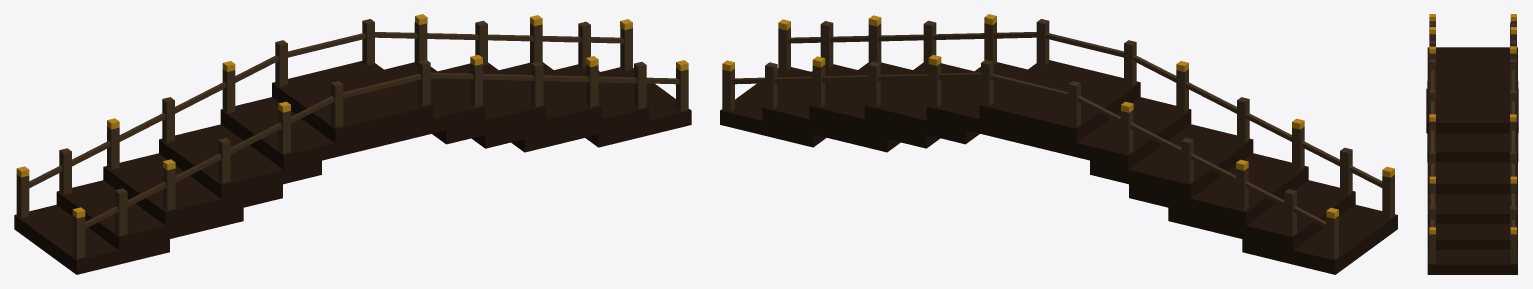
File: walkingbridge.fbx
3 renders of one model, left to right at view 1: azimuth 30°, elevation 25°; view 2: azimuth 150°, elevation 25°; view 3: azimuth 270°, elevation 25°, orthographic. The views are drawn at different scales.
Visible parts, largest first — view 1: Box053, Box055, Box056, Box057, Box054, Box058, Box061, Box062, Box063, Box060, Box064, Box079 (+28 smaller); view 2: Box053, Box055, Box056, Box054, Box057, Box058, Box061, Box062, Box063, Box060, Box064, Box078 (+29 smaller); view 3: Box053, Box061, Box060, Box062, Box064, Box063, Box055, Box056, Box054, Box057, Box058, Box114 (+18 smaller).
Boxes of the visible parts, left/top/right/bottom form: Box053: left=272, top=61, right=433, bottom=143; Box055: left=159, top=124, right=321, bottom=198; Box056: left=103, top=153, right=282, bottom=226; Box057: left=56, top=180, right=243, bottom=251; Box054: left=220, top=97, right=371, bottom=169; Box058: left=14, top=204, right=169, bottom=274; Box061: left=432, top=62, right=546, bottom=144; Box062: left=471, top=62, right=602, bottom=148; Box063: left=511, top=64, right=649, bottom=152; Box060: left=384, top=62, right=485, bottom=142; Box064: left=585, top=67, right=691, bottom=147; Box079: left=85, top=96, right=334, bottom=228; Box053: left=979, top=60, right=1140, bottom=143; Box055: left=1090, top=124, right=1253, bottom=198; Box056: left=1129, top=153, right=1308, bottom=226; Box054: left=1040, top=97, right=1191, bottom=169; Box057: left=1168, top=180, right=1355, bottom=249; Box058: left=1242, top=204, right=1397, bottom=274; Box061: left=864, top=62, right=979, bottom=144; Box062: left=809, top=62, right=939, bottom=148; Box063: left=762, top=64, right=900, bottom=152; Box060: left=926, top=62, right=1027, bottom=141; Box064: left=720, top=67, right=826, bottom=147; Box078: left=1077, top=96, right=1326, bottom=228; Box053: left=1426, top=88, right=1518, bottom=133; Box061: left=1427, top=162, right=1517, bottom=194; Box060: left=1427, top=133, right=1518, bottom=162; Box062: left=1427, top=194, right=1517, bottom=223; Box064: left=1427, top=249, right=1517, bottom=274; Box063: left=1427, top=223, right=1517, bottom=249; Box055: left=1427, top=69, right=1517, bottom=80; Box056: left=1427, top=59, right=1517, bottom=69; Box054: left=1427, top=80, right=1518, bottom=88; Box057: left=1427, top=52, right=1517, bottom=59; Box058: left=1427, top=47, right=1517, bottom=52; Box114: left=1511, top=101, right=1514, bottom=227.
Bounding box in the file's own units: 1344 × 260 × 241.
